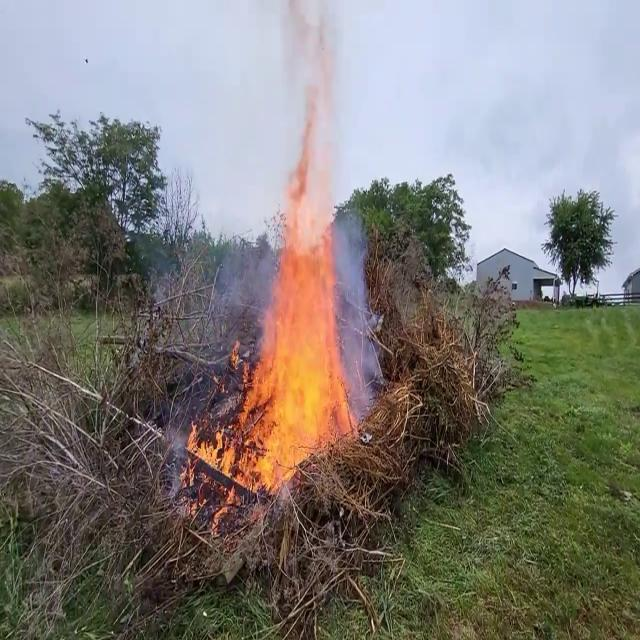Fire: (189, 169, 365, 503), (231, 177, 361, 491)
Smoke: (277, 0, 353, 204)
